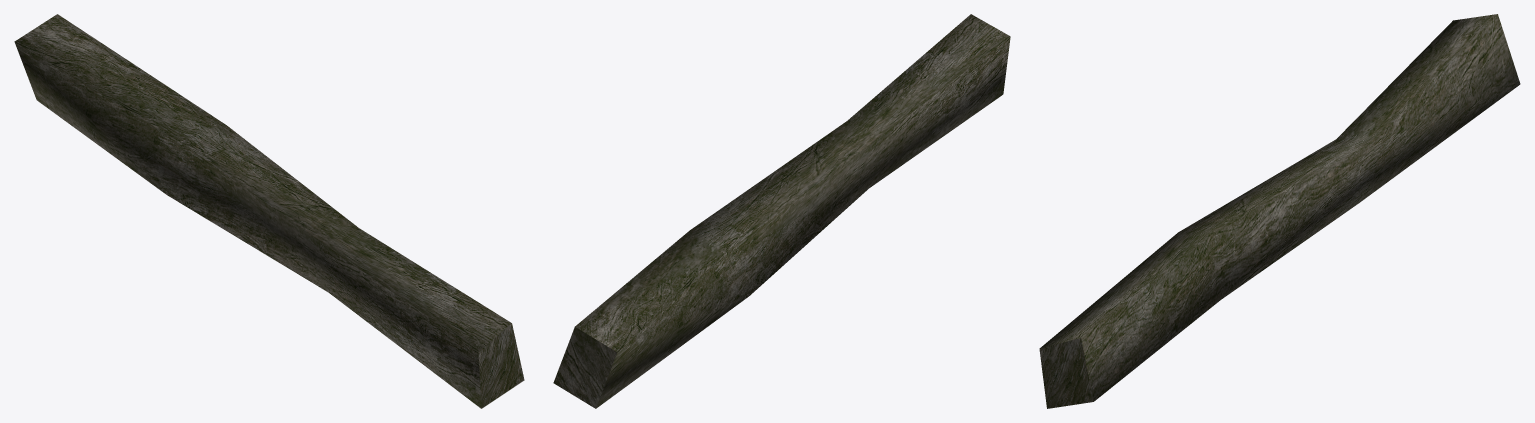
The model's file is TI_S_Branch_01.fbx.
The picture shows the model from 3 angles, left to right: view 1: azimuth 30°, elevation 25°; view 2: azimuth 150°, elevation 25°; view 3: azimuth 330°, elevation 25°; orthographic projection. The views are drawn at different scales.
Parts seen in each view (by area): view 1: TI_S_Branch_01; view 2: TI_S_Branch_01; view 3: TI_S_Branch_01.
Part boxes in pixels (box(x1,y1,x2,y2)): TI_S_Branch_01: box(14, 14, 524, 408); TI_S_Branch_01: box(553, 14, 1010, 408); TI_S_Branch_01: box(1039, 14, 1520, 408).
Bounding box in the file's own units: 0.2201 × 0.2251 × 2.14.
